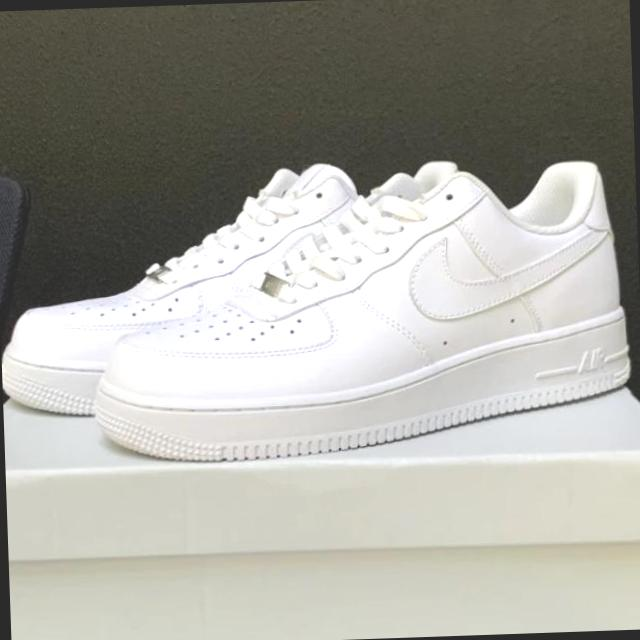nike_original_airforce: (84, 148, 636, 465), (0, 156, 467, 418)
